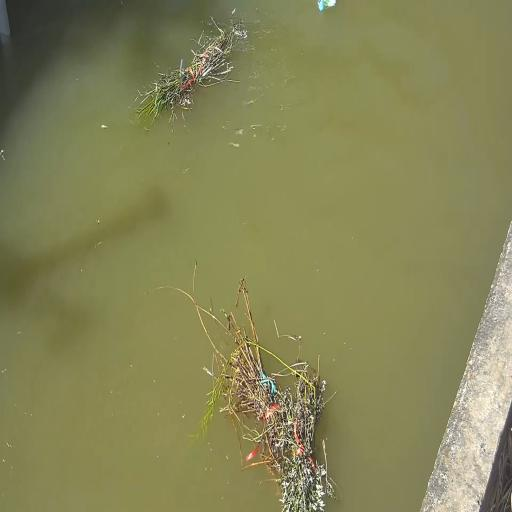plastic: (318, 0, 336, 10)
twig: (174, 266, 335, 512), (136, 11, 247, 119)
